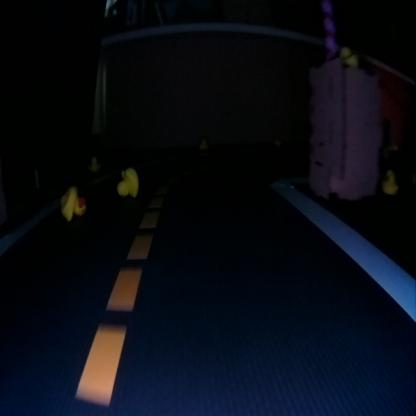Duckie: (60, 186, 84, 220), (117, 168, 138, 197), (382, 170, 396, 193), (341, 47, 358, 65), (90, 157, 98, 171), (199, 140, 205, 146)
